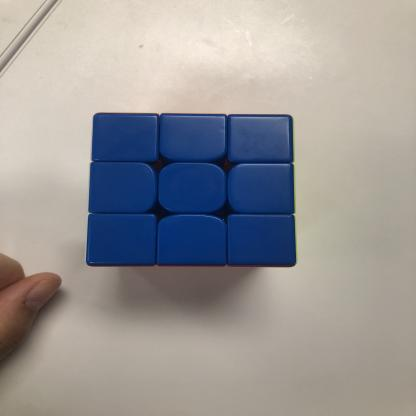SolvedCube: (90, 110, 298, 268)
